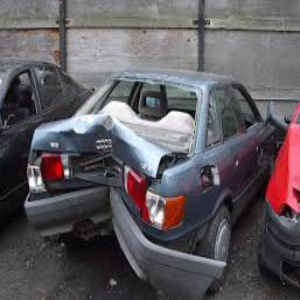bonnet: (47, 120, 165, 167)
bumper: (103, 224, 223, 291)
tail_lights: (116, 167, 183, 231)
